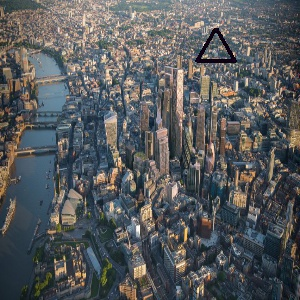triangle: (192, 24, 241, 67)
